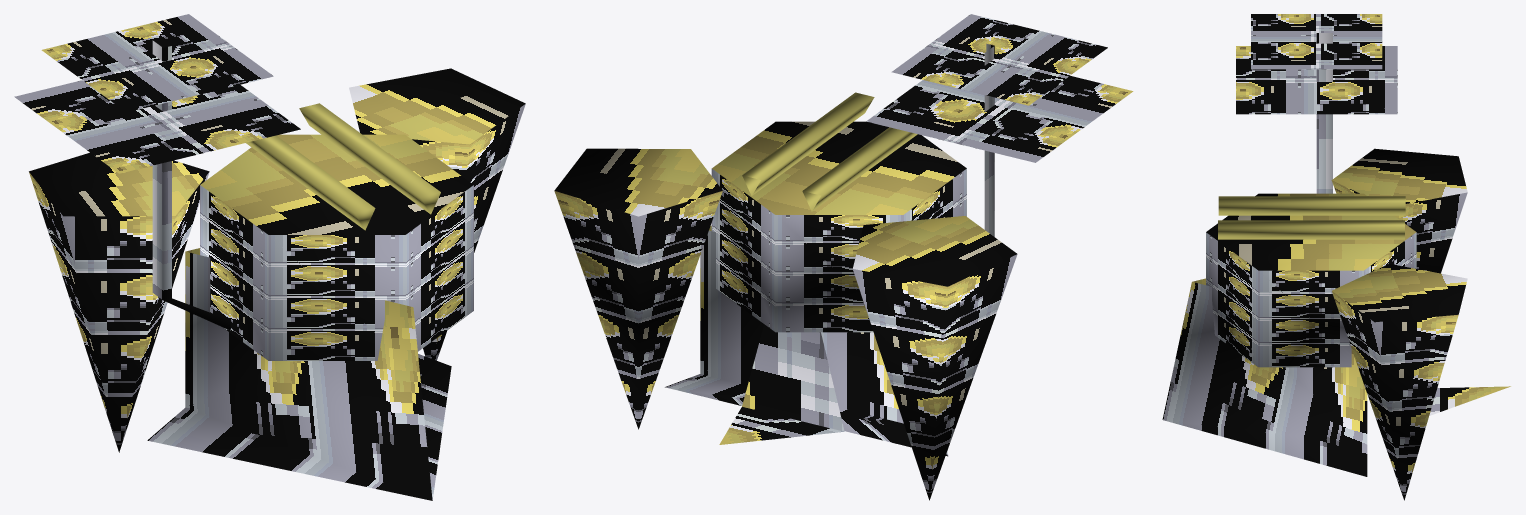
File: 2738gakki07_e.gltf
3 renders of one model, left to right at view 1: azimuth 30°, elevation 25°; view 2: azimuth 150°, elevation 25°; view 3: azimuth 270°, elevation 25°, orthographic. The views are drawn at different scales.
Parts seen in each view (by area): view 1: 2738gakki07_e; view 2: 2738gakki07_e; view 3: 2738gakki07_e.
Boxes of the visible parts, x1=… form: 2738gakki07_e: x1=14, y1=14, x2=525, y2=500; 2738gakki07_e: x1=554, y1=14, x2=1133, y2=500; 2738gakki07_e: x1=1162, y1=14, x2=1510, y2=500.
Size of the model in its own units: 1.13 by 0.9753 by 0.8918.
1 material, 1 textured.
